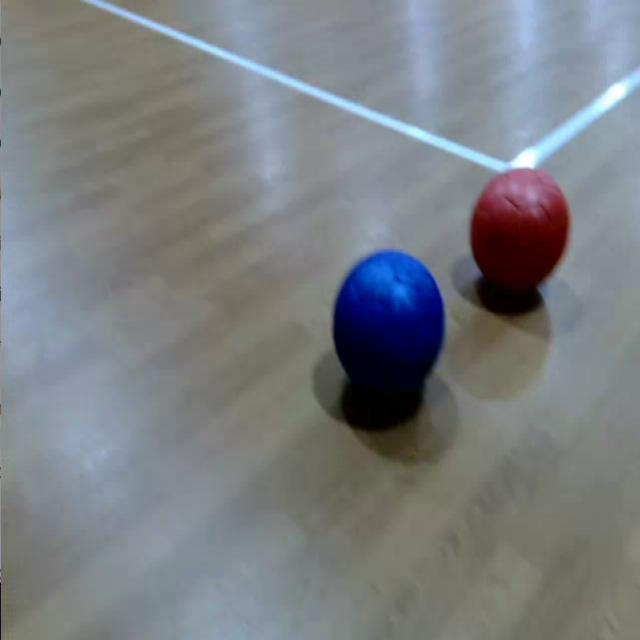blue_ball: (333, 250, 445, 403)
red_ball: (472, 167, 570, 292)
